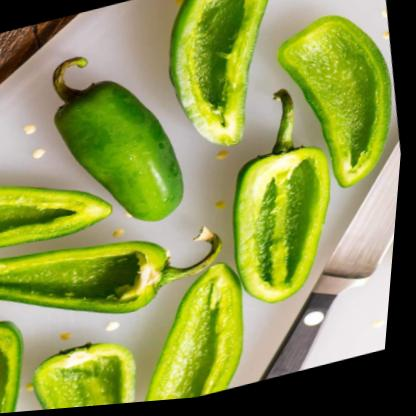chilli_pepper: (19, 33, 209, 261), (205, 77, 361, 338), (0, 203, 237, 360), (255, 3, 414, 221), (140, 0, 303, 175)
